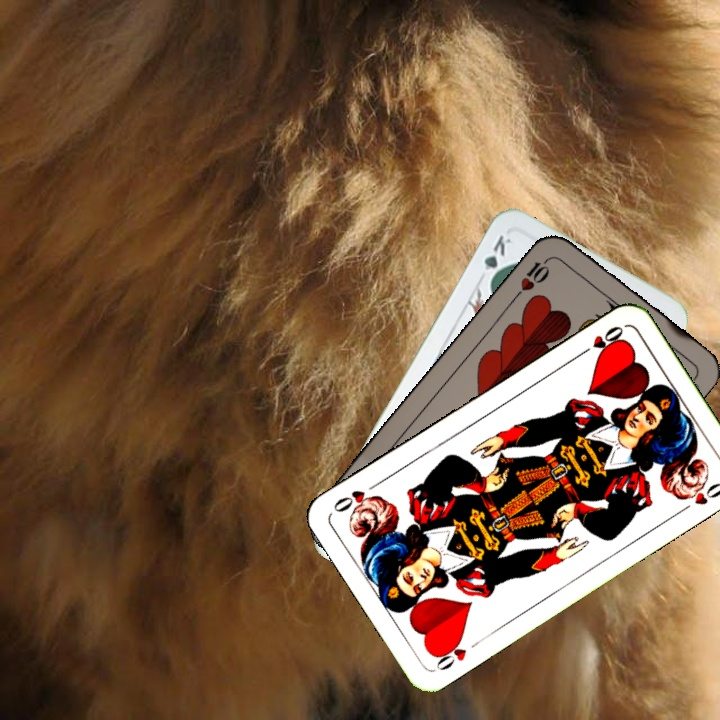GK: (480, 230, 514, 287)
H10: (511, 252, 555, 300)
HO: (574, 321, 626, 360), (430, 634, 469, 673)
